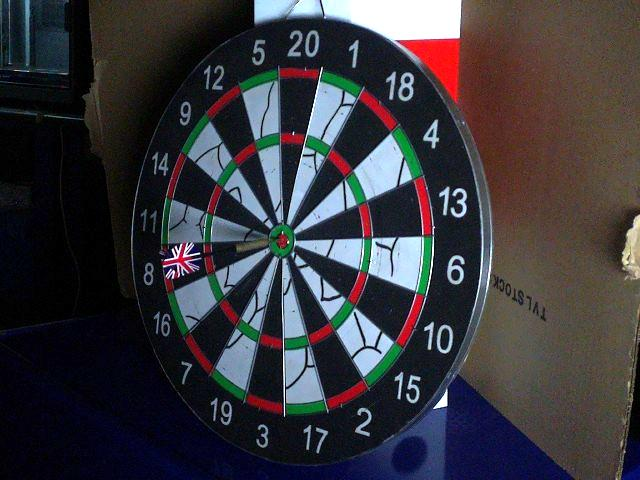bullseye: (269, 227, 295, 256)
